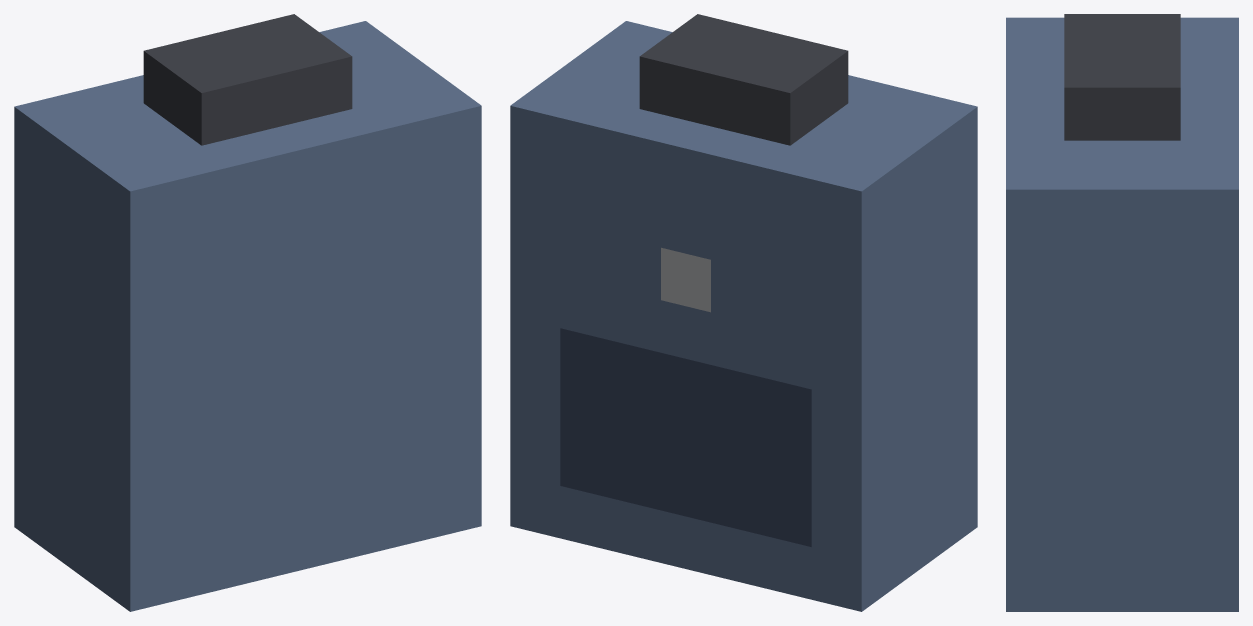
File: sac_petit.glb
The picture shows the model from 3 angles, left to right: view 1: azimuth 30°, elevation 25°; view 2: azimuth 150°, elevation 25°; view 3: azimuth 270°, elevation 25°; orthographic projection.
Visible parts, largest first — view 1: main; view 2: main; view 3: main.
Part boxes in pixels (x1,y1,x2,y2): main: [14, 14, 481, 611]; main: [510, 14, 977, 611]; main: [1006, 14, 1238, 611].
Bounding box in the file's own units: 0.4375 × 0.5625 × 0.25.
